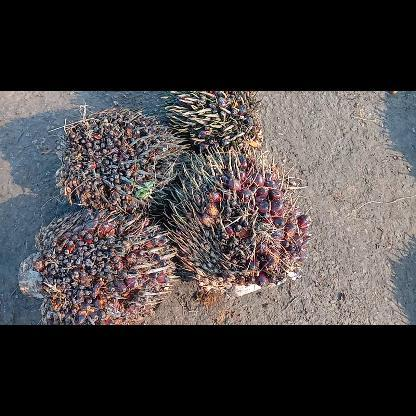TBS abnormal: (14, 206, 184, 324), (51, 103, 195, 214), (158, 90, 265, 158)
TBS masak: (160, 144, 314, 298)
